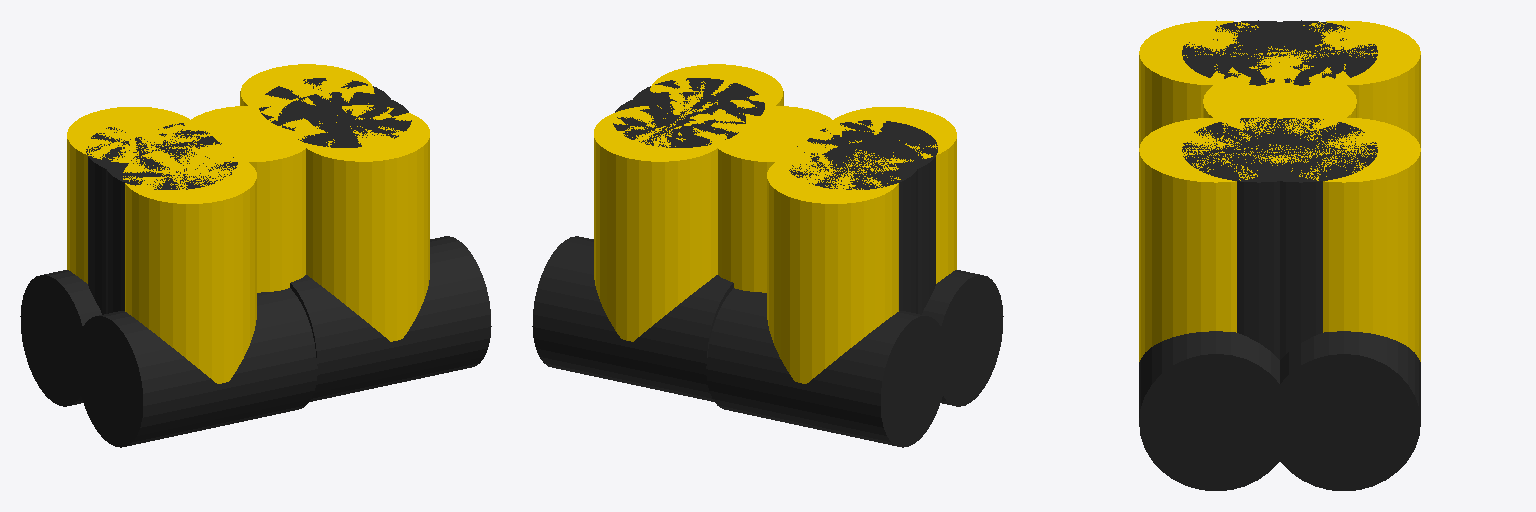
The robot description file, URDF, robot "spot":
<robot name="spot">
  <link name="base">
    <visual>
      <origin xyz="0 0 0" rpy="0 0 0"/>
      <geometry>
        <cylinder length="0.6" radius="0.2"/>
      </geometry>

<material name="base"> <color rgba="1 0.8431 0 1"/></material>    </visual>
      <collision>
        <geometry>
          <cylinder length="0.6" radius="0.2"/>
         </geometry>
       </collision>
       <inertial>
      <origin rpy="0 0 0" xyz="0.008465 0.004045 -0.000763"/>
      <!-- <mass value="9.041"/> -->
      <mass value="0.01"/>
      <inertia ixx="0.033260231" ixy="-0.000451628" ixz="0.000487603" iyy="0.16117211" iyz="4.8356e-05" izz="0.17460442"/>
    </inertial>
  </link>
  
  
  <link name="fl.hip">
    <visual>
      <origin xyz="0 0 0" rpy="0 0 0"/>
      <geometry>
        <cylinder length="0.6" radius="0.2"/>
      </geometry>
<material name="fl.hip"> <color rgba="0.2 0.2 0.2 1"/></material>    </visual>
      <collision>
        <geometry>
          <cylinder length="0.6" radius="0.2"/>
         </geometry>
       </collision>
    <inertial>
      <origin rpy="0 0 0" xyz="-0.022191 0.015144 -1.5e-05"/>
      <!-- <mass value="1.993"/> -->
      <mass value="0.01"/>
      
      <inertia ixx="0.002903894" ixy="-7.185e-05" ixz="-1.262e-06" iyy="0.004907517" iyz="-1.75e-06" izz="0.005586944"/>
    </inertial>
  </link>
  
  
  <joint name="fl.hx" type="revolute">
    <origin xyz="0.29785 0.05500 0.00000" rpy="0 0 0"/>
    <axis xyz="1 0 0"/>
    <parent link="base"/>
    <child link="fl.hip"/>
     <limit effort="1000" velocity="1000.00" lower="-0.770728" upper="0.80063"/>
  </joint>
  <link name="fl.uleg">
    <visual>
      <origin xyz="0 0 0" rpy="0 0 0"/>
      <geometry>
        <cylinder length="0.6" radius="0.2"/>
      </geometry>
<material name="fl.uleg"> <color rgba="1 0.8431 0 1"/></material>    </visual>
      <collision>
        <geometry>
          <cylinder length="0.6" radius="0.2"/>
         </geometry>
       </collision>
      <inertial>
      <origin rpy="0 0 0" xyz="-0.003237 -0.022327 -0.027326"/>
      <!--<mass value="1.013"/>-->
      <mass value="0.01"/>
      <inertia ixx="0.005529065" ixy="4.825e-06" ixz="0.000343869" iyy="0.005139339" iyz="2.2448e-05" izz="0.001367788"/>
    </inertial>
  </link>
  
  
  <joint name="fl.hy" type="revolute">
    <origin xyz="0.0 0.110945 0.0" rpy="0 0 0"/>
    <axis xyz="0 1      0"/>
    <parent link="fl.hip"/>
    <child link="fl.uleg"/>
     <limit effort="1000" velocity="1000.00" lower="-0.880902" upper="2.25842"/>
  </joint>
  <link name="fl.lleg">
    <visual>
      <origin xyz="0 0 0" rpy="0 0 0"/>
      <geometry>
        <cylinder length="0.6" radius="0.2"/>
      </geometry>
<material name="fl.lleg"> <color rgba="0.2 0.2 0.2 1"/></material>    </visual>
      <collision>
        <geometry>
          <cylinder length="0.6" radius="0.2"/>
         </geometry>
       </collision>
    <inertial>
      <origin rpy="0 0 0" xyz="0.006435 0.0 -0.107388"/>
      <!--<mass value="0.166"/>-->
      <mass value="0.01"/>
      <inertia ixx="0.002997972" ixy="0.0" ixz="-0.000141163" iyy="0.003014022" iyz="0.0" izz="3.2426e-05"/>
    </inertial>
  </link>
  
  <joint name="fl.kn" type="revolute">
    <origin xyz="0.025 0.000 -0.3205" rpy="0 0 0"/>
    <axis xyz="0 1 0"/>
    <parent link="fl.uleg"/>
    <child link="fl.lleg"/>
     <limit effort="1000" velocity="1000.00" lower="-2.79436" upper="-0.287628"/>
  </joint>
  <link name="fr.hip">
    <visual>
      <origin xyz="0 0 0" rpy="0 0 0"/>
      <geometry>
        <cylinder length="0.6" radius="0.2"/>
      </geometry>
<material name="fr.hip"> <color rgba="0.2 0.2 0.2 1"/></material>    </visual>
       <collision>
        <geometry>
          <cylinder length="0.6" radius="0.2"/>
         </geometry>
       </collision>
       <inertial>
      <origin rpy="0 0 0" xyz="-0.022191 -0.015144 -1.5e-05"/>
      <!--<mass value="1.993"/>-->
      <mass value="0.01"/>
      <inertia ixx="0.002903894" ixy="7.185e-05" ixz="-1.262e-06" iyy="0.004907517" iyz="1.75e-06" izz="0.005586944"/>
    </inertial>
  </link>
  
  <joint name="fr.hx" type="revolute">
    <origin xyz="0.29785 -0.05500 0.00000" rpy="0 0 0"/>
    <axis xyz="1 0 0"/>
    <parent link="base"/>
    <child link="fr.hip"/>
     <limit effort="1000" velocity="1000.00" lower="-0.785173" upper="0.785869"/>
  </joint>
  <link name="fr.uleg">
    <visual>
      <origin xyz="0 0 0" rpy="0 0 0"/>
      <geometry>
        <cylinder length="0.6" radius="0.2"/>
      </geometry>
<material name="fr.uleg"> <color rgba="1 0.8431 0 1"/></material>    </visual>
      <collision>
        <geometry>
          <cylinder length="0.6" radius="0.2"/>
         </geometry>
       </collision>
    <inertial>
      <origin rpy="0 0 0" xyz="-0.003237 0.022327 -0.027326"/>
      <!--<mass value="1.013"/>-->
      <mass value="0.01"/>
      <inertia ixx="0.005529065" ixy="-4.825e-06" ixz="0.000343869" iyy="0.005139339" iyz="-2.2448e-05" izz="0.001367788"/>
    </inertial>
  </link>
  
  <joint name="fr.hy" type="revolute">
    <origin xyz="0.0 -0.110945 0.0" rpy="0 0 0"/>
    <axis xyz="0  1      0"/>
    <parent link="fr.hip"/>
    <child link="fr.uleg"/>
     <limit effort="1000" velocity="1000.00" lower="-0.878211" upper="2.26376"/>
  </joint>
  <link name="fr.lleg">
    <visual>
      <origin xyz="0 0 0" rpy="0 0 0"/>
      <geometry>
        <cylinder length="0.6" radius="0.2"/>
      </geometry>
<material name="fr.lleg"> <color rgba="0.2 0.2 0.2 1"/></material>    </visual>
      <collision>
        <geometry>
          <cylinder length="0.6" radius="0.2"/>
         </geometry>
       </collision>
       <inertial>
      <origin rpy="0 0 0" xyz="0.006435 0.0 -0.107388"/>
      <!--<mass value="0.166"/>-->
      <mass value="0.01"/>
      <inertia ixx="0.002997972" ixy="0.0" ixz="-0.000141163" iyy="0.003014022" iyz="0.0" izz="3.2426e-05"/>
    </inertial>
  </link>
  
  <joint name="fr.kn" type="revolute">
    <origin xyz="0.025 0.000 -0.3205" rpy="0 0 0"/>
    <axis xyz="0 1 0"/>
    <parent link="fr.uleg"/>
    <child link="fr.lleg"/>
     <limit effort="1000" velocity="1000.00" lower="-2.79966" upper="-0.283371"/>
  </joint>
  <link name="hl.hip">
    <visual>
      <origin xyz="0 0 0" rpy="0 0 0"/>
      <geometry>
        <cylinder length="0.6" radius="0.2"/>
      </geometry>
<material name="hl.hip"> <color rgba="0.2 0.2 0.2 1"/></material>    </visual>
      <collision>
        <geometry>
          <cylinder length="0.6" radius="0.2"/>
         </geometry>
       </collision>
    <inertial>
      <origin rpy="0 0 0" xyz="0.022191 0.015144 -1.5e-05"/>
      <!--<mass value="1.993"/>-->
      <mass value="0.01"/>
      <inertia ixx="0.002903894" ixy="7.185e-05" ixz="1.262e-06" iyy="0.004907517" iyz="-1.75e-06" izz="0.005586944"/>
    </inertial>
  </link>
  
  <joint name="hl.hx" type="revolute">
    <origin xyz="-0.29785 0.05500 0.00000" rpy="0 0 0"/>
    <axis xyz="1 0 0"/>
    <parent link="base"/>
    <child link="hl.hip"/>
     <limit effort="1000" velocity="1000.00" lower="-0.787764" upper="0.783786"/>
  </joint>
  <link name="hl.uleg">
    <visual>
      <origin xyz="0 0 0" rpy="0 0 0"/>
      <geometry>
        <cylinder length="0.6" radius="0.2"/>
      </geometry>
<material name="hl.uleg"> <color rgba="1 0.8431 0 1"/></material>    </visual>
      <collision>
        <geometry>
          <cylinder length="0.6" radius="0.2"/>
         </geometry>
       </collision>
    <inertial>
      <origin rpy="0 0 0" xyz="-0.003237 -0.022327 -0.027326"/>
      <!--<mass value="1.013"/>-->
      <mass value="0.01"/>
      <inertia ixx="0.005529065" ixy="4.825e-06" ixz="0.000343869" iyy="0.005139339" iyz="2.2448e-05" izz="0.001367788"/>
    </inertial>
  </link>
  
  <joint name="hl.hy" type="revolute">
    <origin xyz="0.0 0.110945 0.0" rpy="0 0 0"/>
    <axis xyz="0 1      0"/>
    <parent link="hl.hip"/>
    <child link="hl.uleg"/>
     <limit effort="1000" velocity="1000.00" lower="-0.873887" upper="2.26671"/>
  </joint>
  <link name="hl.lleg">
    <visual>
      <origin xyz="0 0 0" rpy="0 0 0"/>
      <geometry>
        <cylinder length="0.6" radius="0.2"/>
      </geometry>
<material name="hl.lleg"> <color rgba="0.2 0.2 0.2 1"/></material>    </visual>
      <collision>
        <geometry>
          <cylinder length="0.6" radius="0.2"/>
         </geometry>
       </collision>
    <inertial>
      <origin rpy="0 0 0" xyz="0.002781 6.3e-05 -0.142518"/>
      <!--<mass value="0.207"/>-->
      <mass value="0.01"/>
      <inertia ixx="0.006341369" ixy="-3e-09" ixz="-8.7951e-05" iyy="0.006355157" iyz="-1.336e-06" izz="3.9188e-05"/>
    </inertial>
  </link>
  
  <joint name="hl.kn" type="revolute">
    <origin xyz="0.025 0.000 -0.3205" rpy="0 0 0"/>
    <axis xyz="0 1 0"/>
    <parent link="hl.uleg"/>
    <child link="hl.lleg"/>
     <limit effort="1000" velocity="1000.00" lower="-2.79925" upper="-0.284751"/>
  </joint>
  <link name="hr.hip">
    <visual>
      <origin xyz="0 0 0" rpy="0 0 0"/>
      <geometry>
        <cylinder length="0.6" radius="0.2"/>
      </geometry>
<material name="hr.hip"> <color rgba="0.2 0.2 0.2 1"/></material>    </visual>
      <collision>
        <geometry>
          <cylinder length="0.6" radius="0.2"/>
         </geometry>
       </collision>
    <inertial>
      <origin rpy="0 0 0" xyz="0.022191 -0.015144 -1.5e-05"/>
      <!--<mass value="1.993"/>-->
      <mass value="0.01"/>
      <inertia ixx="0.002903894" ixy="-7.185e-05" ixz="1.262e-06" iyy="0.004907517" iyz="1.75e-06" izz="0.005586944"/>
    </inertial>
  </link>
  
  <joint name="hr.hx" type="revolute">
    <origin xyz="-0.29785 -0.05500 0.00000" rpy="0 0 0"/>
    <axis xyz="1 0 0"/>
    <parent link="base"/>
    <child link="hr.hip"/>
     <limit effort="1000" velocity="1000.00" lower="-0.78842" upper="0.781105"/>
  </joint>
  <link name="hr.uleg">
    <visual>
      <origin xyz="0 0 0" rpy="0 0 0"/>
      <geometry>
        <cylinder length="0.6" radius="0.2"/>
      </geometry>
<material name="hr.uleg"> <color rgba="1 0.8431 0 1"/></material>    </visual>
      <collision>
        <geometry>
          <cylinder length="0.6" radius="0.2"/>
         </geometry>
       </collision>
    <inertial>
      <origin rpy="0 0 0" xyz="-0.003237 0.022327 -0.027326"/>
      <!--<mass value="1.013"/>-->
      <mass value="0.01"/>
      <inertia ixx="0.005529065" ixy="-4.825e-06" ixz="0.000343869" iyy="0.005139339" iyz="-2.2448e-05" izz="0.001367788"/>
    </inertial>
  </link>
  
  <joint name="hr.hy" type="revolute">
    <origin xyz="0.0 -0.110945 0.0" rpy="0 0 0"/>
    <axis xyz="0  1      0"/>
    <parent link="hr.hip"/>
    <child link="hr.uleg"/>
     <limit effort="1000" velocity="1000.00" lower="-0.874512" upper="2.26129"/>
  </joint>
  <link name="hr.lleg">
    <visual>
      <origin xyz="0 0 0" rpy="0 0 0"/>
      <geometry>
        <cylinder length="0.6" radius="0.2"/>
      </geometry>
<material name="hr.lleg"> <color rgba="0.2 0.2 0.2 1"/></material>    </visual>
      <collision>
        <geometry>
          <cylinder length="0.6" radius="0.2"/>
         </geometry>
       </collision>
    <inertial>
      <origin rpy="0 0 0" xyz="0.002781 6.3e-05 -0.142518"/>
      <!--<mass value="0.207"/>-->
      <mass value="0.01"/>
      <inertia ixx="0.006341369" ixy="-3e-09" ixz="-8.7951e-05" iyy="0.006355157" iyz="-1.336e-06" izz="3.9188e-05"/>
    </inertial>
  </link>
  <joint name="hr.kn" type="revolute">
    <origin xyz="0.025 0.000 -0.3205" rpy="0 0 0"/>
    <axis xyz="0 1 0"/>
    <parent link="hr.uleg"/>
    <child link="hr.lleg"/>
     <limit effort="1000" velocity="1000.00" lower="-2.79832" upper="-0.286601"/>
  </joint>
</robot>

--- Render facts (derived) ---
The picture shows the robot from 3 angles, left to right: view 1: azimuth 30°, elevation 25°; view 2: azimuth 150°, elevation 25°; view 3: azimuth 270°, elevation 25°; orthographic projection.
Robot: spot — 13 links, 12 joints (12 revolute); root link base; default pose: all joints at 0 but 4 set to mid-range because 0 is outside their limits (fl.kn = -1.54, fr.kn = -1.54, hl.kn = -1.54, hr.kn = -1.54).
Links seen in each view (by area): view 1: hr.uleg, fr.uleg, hr.lleg, fr.lleg, base, hl.lleg, hl.uleg, hl.hip, fr.hip, fl.uleg, hr.hip, fl.hip; view 2: hl.uleg, fl.uleg, hl.lleg, fl.lleg, base, hr.lleg, hl.hip, hr.uleg, hr.hip, fr.uleg, fl.hip, fr.hip; view 3: fl.uleg, fl.lleg, fr.lleg, fr.uleg, fl.hip, fr.hip, hl.uleg, hr.uleg, base, hl.hip, hr.hip.
Boxes of the visible links, x1,y1,x2,y2 form: hr.uleg: (123,147,256,383); fr.uleg: (296,105,429,341); hr.lleg: (76,288,317,447); fr.lleg: (290,236,491,401); base: (182,106,314,292); hl.lleg: (20,270,101,406); hl.uleg: (67,107,200,283); hl.hip: (86,123,217,314); fr.hip: (278,92,411,147); fl.uleg: (240,64,374,117); hr.hip: (104,134,237,313); fl.hip: (259,78,392,134); hl.uleg: (767,148,900,383); fl.uleg: (594,106,727,341); hl.lleg: (706,288,947,447); fl.lleg: (532,236,733,401); base: (710,106,841,292); hr.lleg: (922,270,1003,406); hl.hip: (789,134,919,313); hr.uleg: (825,107,956,283); hr.hip: (807,120,937,314); fr.uleg: (650,64,783,120); fl.hip: (613,92,745,147); fr.hip: (633,78,764,133); fl.uleg: (1267,117,1420,361); fl.lleg: (1267,331,1420,490); fr.lleg: (1139,331,1292,490); fr.uleg: (1139,117,1289,361); fl.hip: (1224,118,1377,359); fr.hip: (1182,117,1335,359); hl.uleg: (1267,20,1420,147); hr.uleg: (1139,20,1291,147); base: (1203,69,1356,133); hl.hip: (1224,20,1377,85); hr.hip: (1182,20,1335,85).
Size in the robot's own frame: 1.21 by 0.7319 by 0.8294 metres.
Geometry: primitives only (box / cylinder / sphere), no mesh files.
